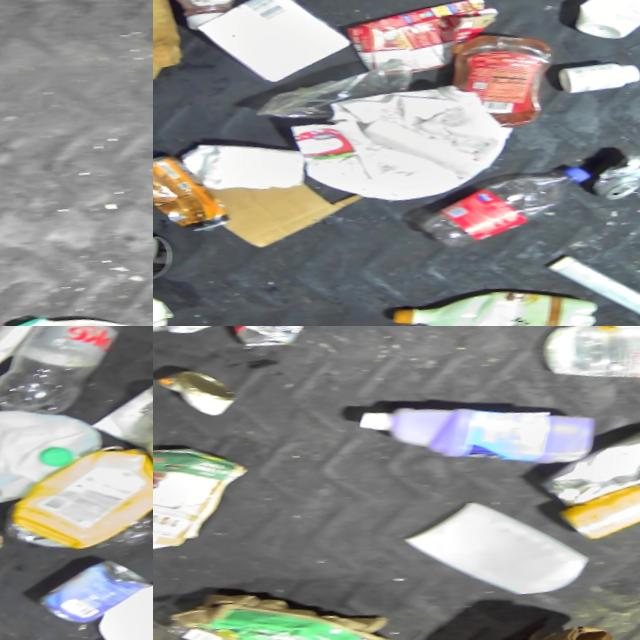can: (153, 144, 237, 245), (44, 547, 153, 624), (564, 469, 640, 540), (162, 360, 240, 421), (601, 132, 640, 193), (226, 326, 315, 352)
milk_jug: (298, 67, 523, 205), (0, 387, 121, 511), (0, 277, 153, 326)
non_white_jug: (390, 368, 606, 485), (5, 429, 153, 560)
plastic_bottle: (430, 141, 600, 248), (0, 326, 134, 419)
